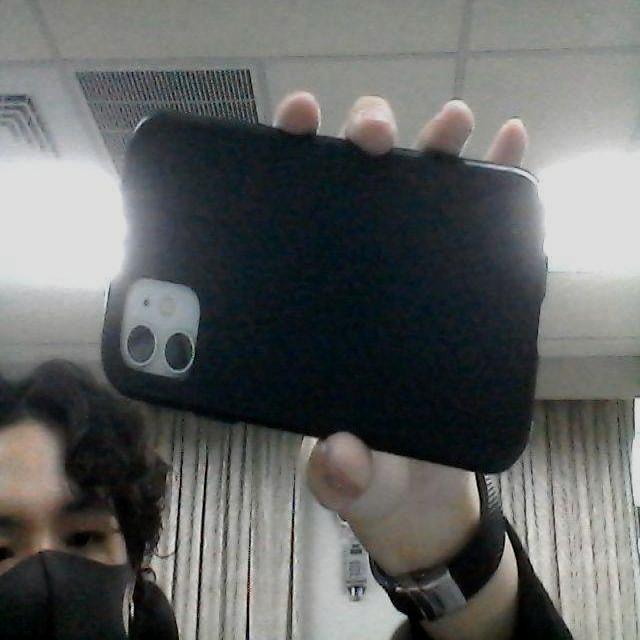lens: (118, 274, 201, 382)
phone: (96, 108, 559, 474)
